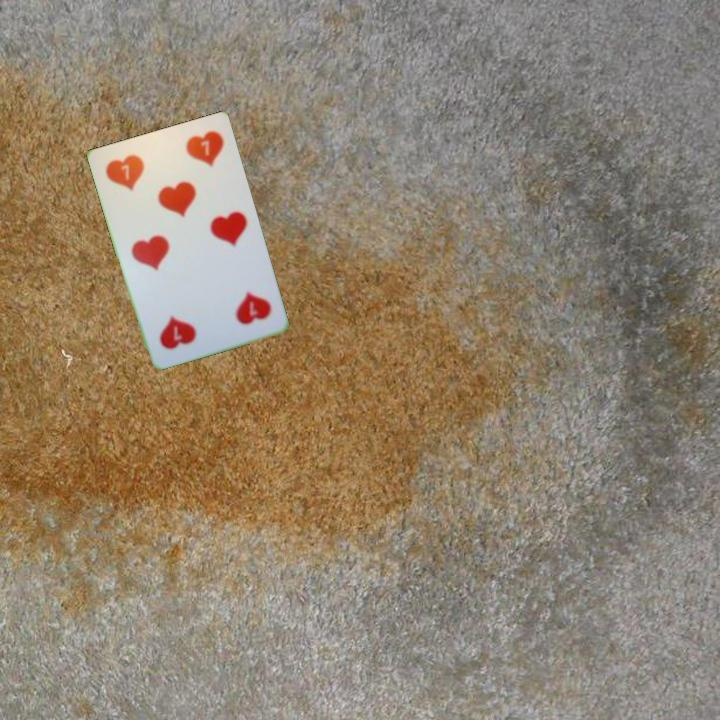h_7.png: (199, 270, 279, 343), (98, 140, 177, 213)
